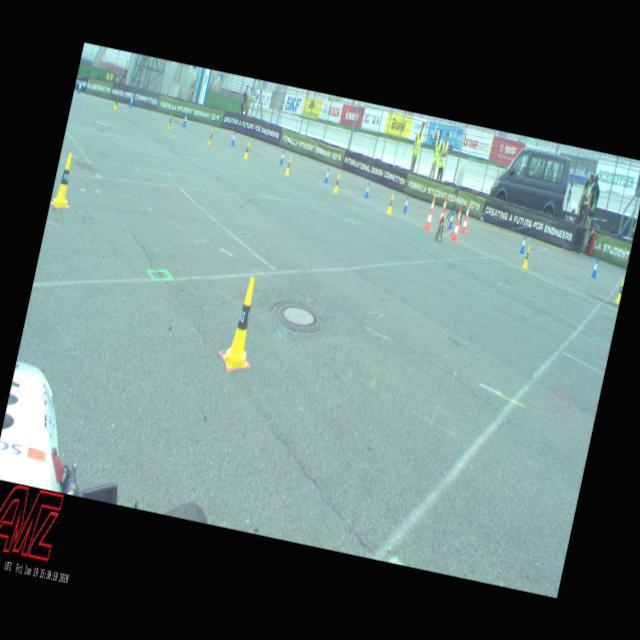blue_cone: (590, 256, 600, 278), (519, 234, 527, 254), (447, 208, 455, 228), (278, 148, 286, 164), (324, 166, 331, 183), (364, 181, 371, 198), (402, 195, 409, 212), (230, 130, 237, 146), (76, 80, 84, 92), (128, 95, 134, 108), (182, 114, 188, 126)
large_orange_cone: (450, 204, 464, 241), (423, 194, 437, 230), (460, 202, 472, 232), (437, 196, 447, 224)
yellow_cone: (220, 274, 264, 373), (50, 151, 78, 210), (520, 245, 532, 268), (614, 278, 624, 302), (385, 192, 395, 215), (332, 173, 342, 193), (242, 140, 250, 160), (284, 156, 292, 176), (112, 94, 120, 110), (166, 112, 173, 130), (207, 128, 214, 144)
